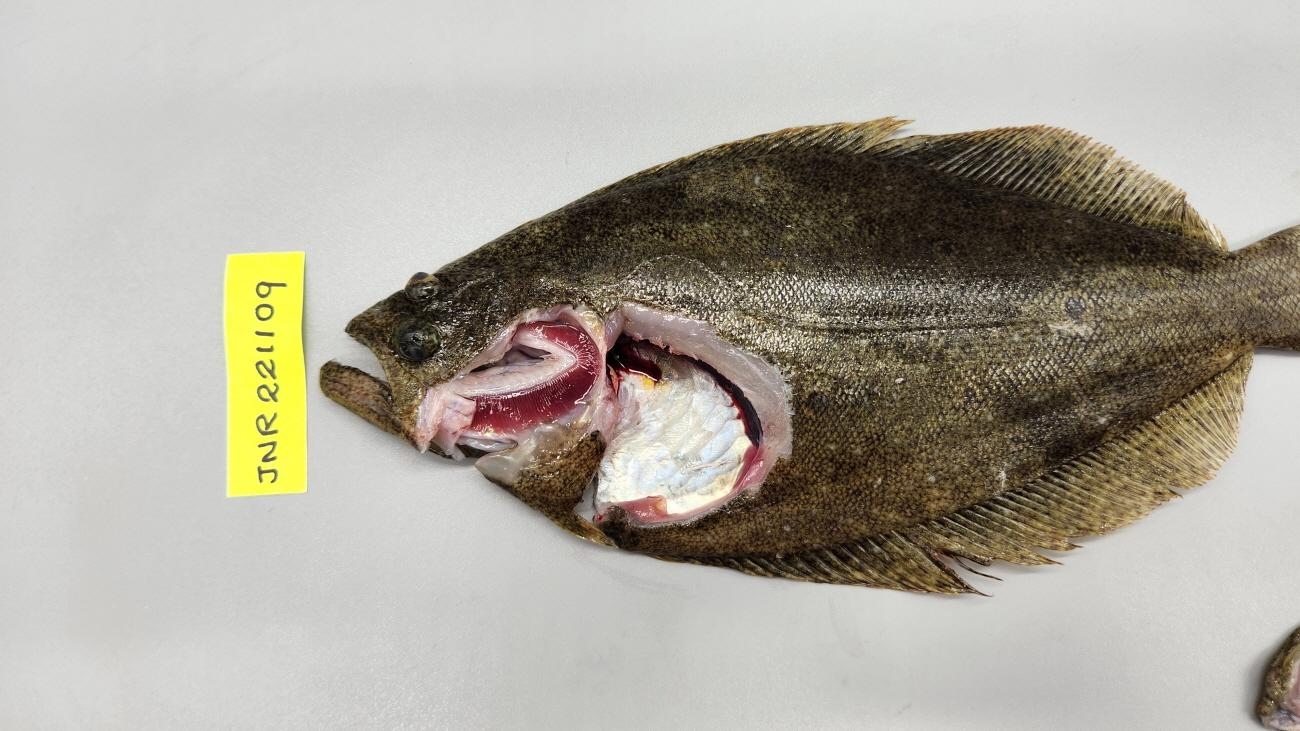POASN: (595, 331, 753, 514)
POKIN: (686, 357, 762, 448)
POREN: (617, 442, 767, 522)
